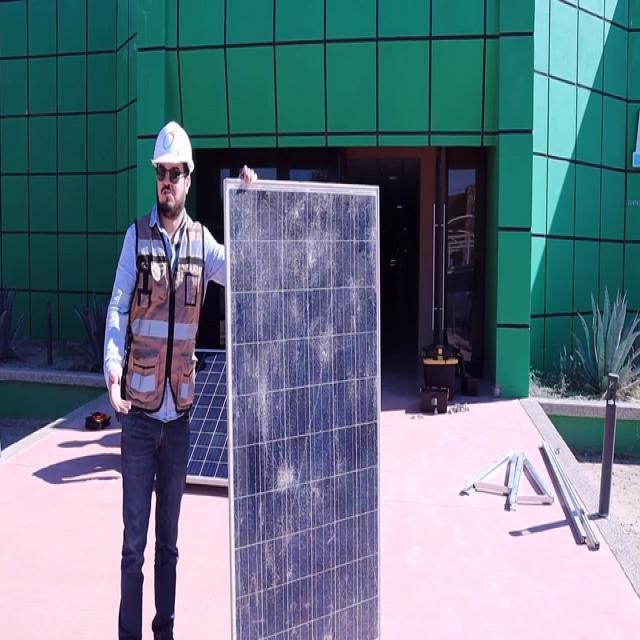Normal Solar Panel: (186, 351, 227, 488)
